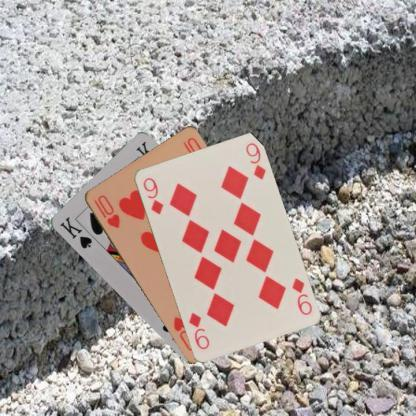10h: (90, 192, 121, 230)
9d: (288, 275, 314, 317), (140, 175, 164, 216)
Ks: (56, 214, 94, 250)
